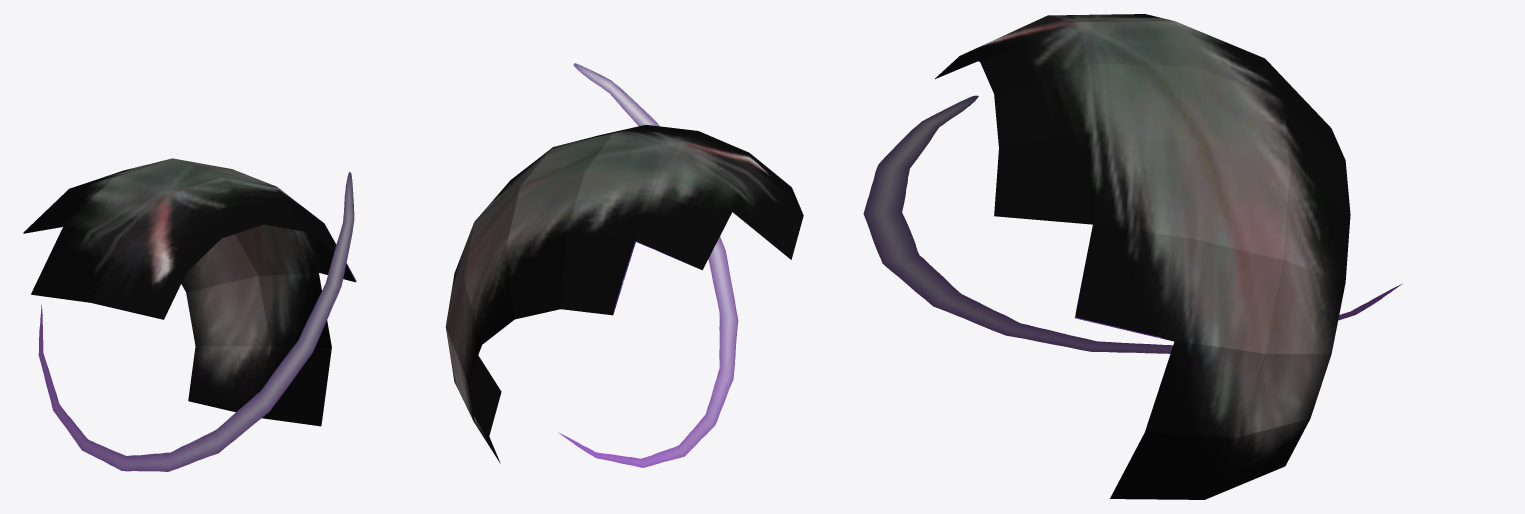
Rendered from helusizhiyu.obj.
The picture shows the model from 3 angles, left to right: view 1: azimuth 30°, elevation 25°; view 2: azimuth 150°, elevation 25°; view 3: azimuth 270°, elevation 25°; orthographic projection. The views are drawn at different scales.
Visible parts, largest first — view 1: Sphere09, Sphere08, Plane01, Sphere07; view 2: Sphere09, Plane01, Sphere08, Sphere07; view 3: Sphere09, Plane01, Sphere07.
Boxes of the visible parts, x1,y1,x2,y2 form: Sphere09: (23, 158, 335, 318); Sphere08: (24, 224, 355, 426); Plane01: (38, 172, 354, 471); Sphere07: (23, 223, 355, 340); Sphere09: (445, 124, 802, 421); Plane01: (558, 63, 738, 467); Sphere08: (468, 207, 803, 463); Sphere07: (467, 187, 803, 422); Sphere09: (960, 14, 1350, 498); Plane01: (863, 95, 1401, 353); Sphere07: (959, 56, 1284, 499).
Size of the model in its own units: 87.56 by 103 by 125.
Materials: 3 (3 with a texture image).
